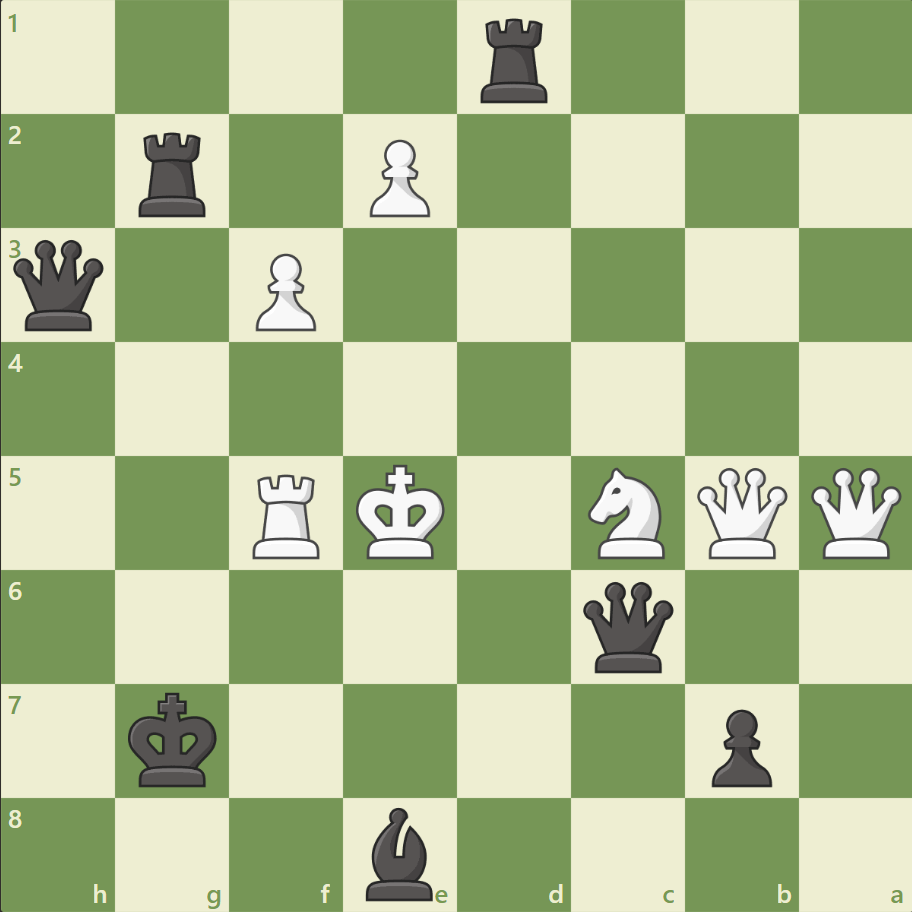K: (351, 458, 451, 566)
N: (579, 461, 676, 564)
P: (247, 246, 322, 337), (361, 132, 435, 223)
Q: (805, 463, 904, 562), (691, 463, 790, 562)
R: (246, 466, 329, 563)
b: (358, 801, 442, 904)
k: (124, 685, 224, 793)
p: (701, 700, 776, 791)
q: (578, 576, 677, 676), (10, 236, 109, 335)
r: (473, 12, 556, 109), (133, 125, 215, 222)
